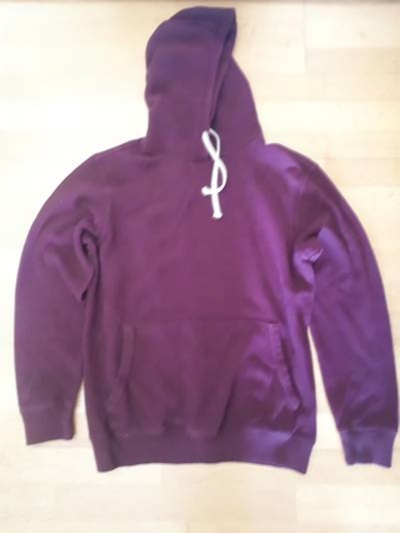Hoodie: (5, 12, 392, 470)
